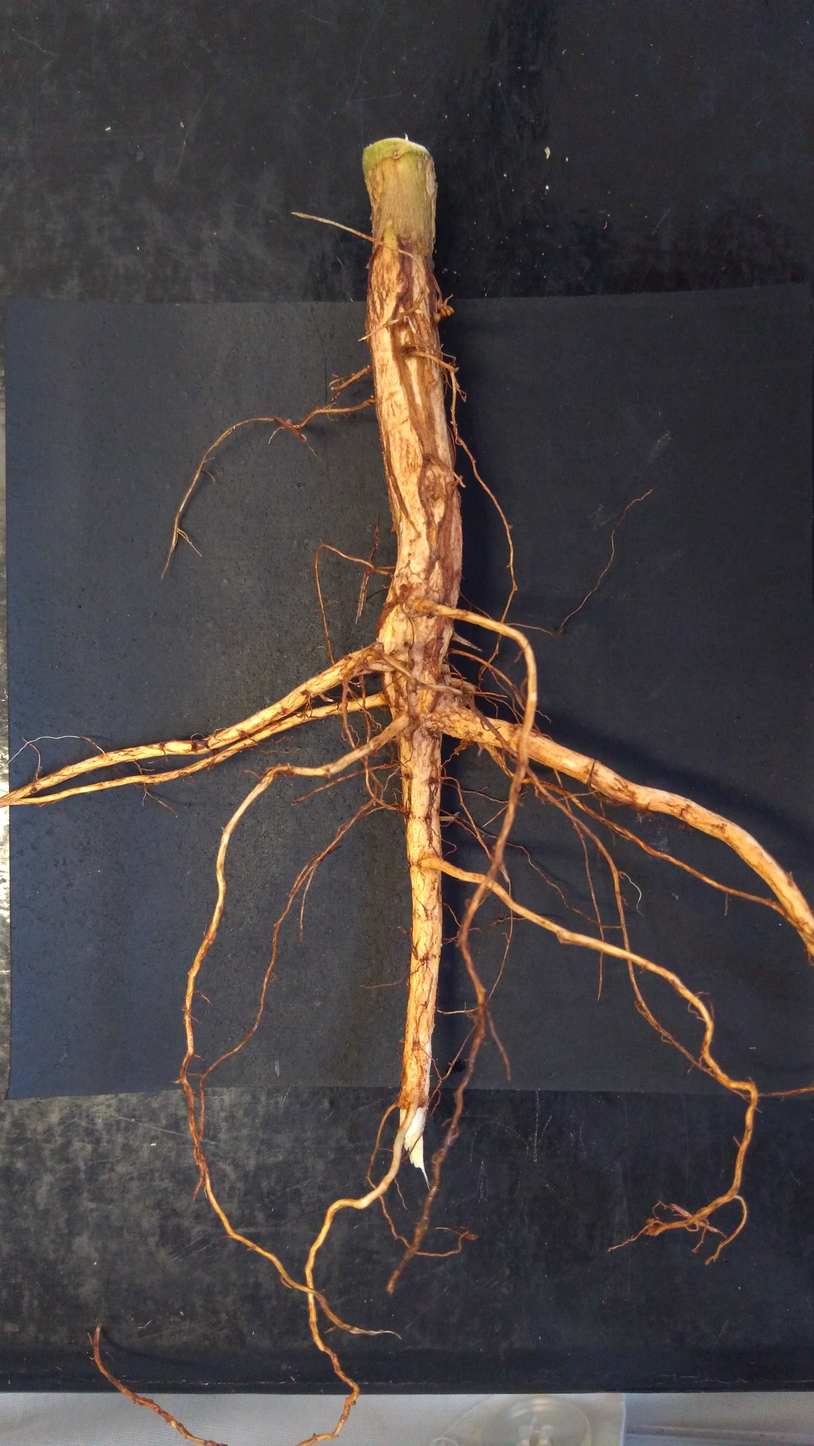nodule: (450, 683, 471, 708), (440, 663, 453, 687), (645, 1217, 657, 1234), (441, 304, 454, 318), (434, 312, 441, 323), (284, 418, 293, 426)
